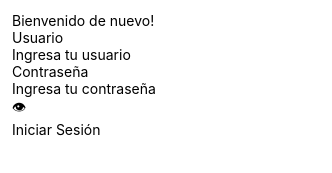
LoginScreen - Comprehensive Test Suite › 🔐 Proceso de autenticación › muestra estado de loading durante el proceso de autenticación
The image size is (332, 173).
Type "test" into the field with placeholder "Ingresa tu usuario".
click(121, 54); type("test")  # box [12,46,230,63]
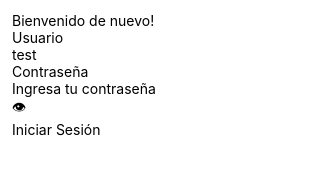
Type "password" into the password field with placeholder "Ingresa tu contraseña".
click(121, 88); type("password")  # box [12,80,230,97]
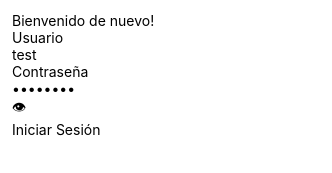
Click the button with test id "login-button".
click(121, 130)  # box [12,121,230,138]
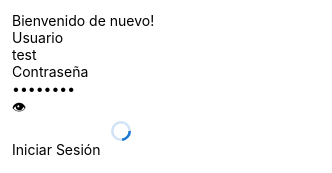
Now the progress indicator with test id "spinner" is shown, box [111,121,131,141]
